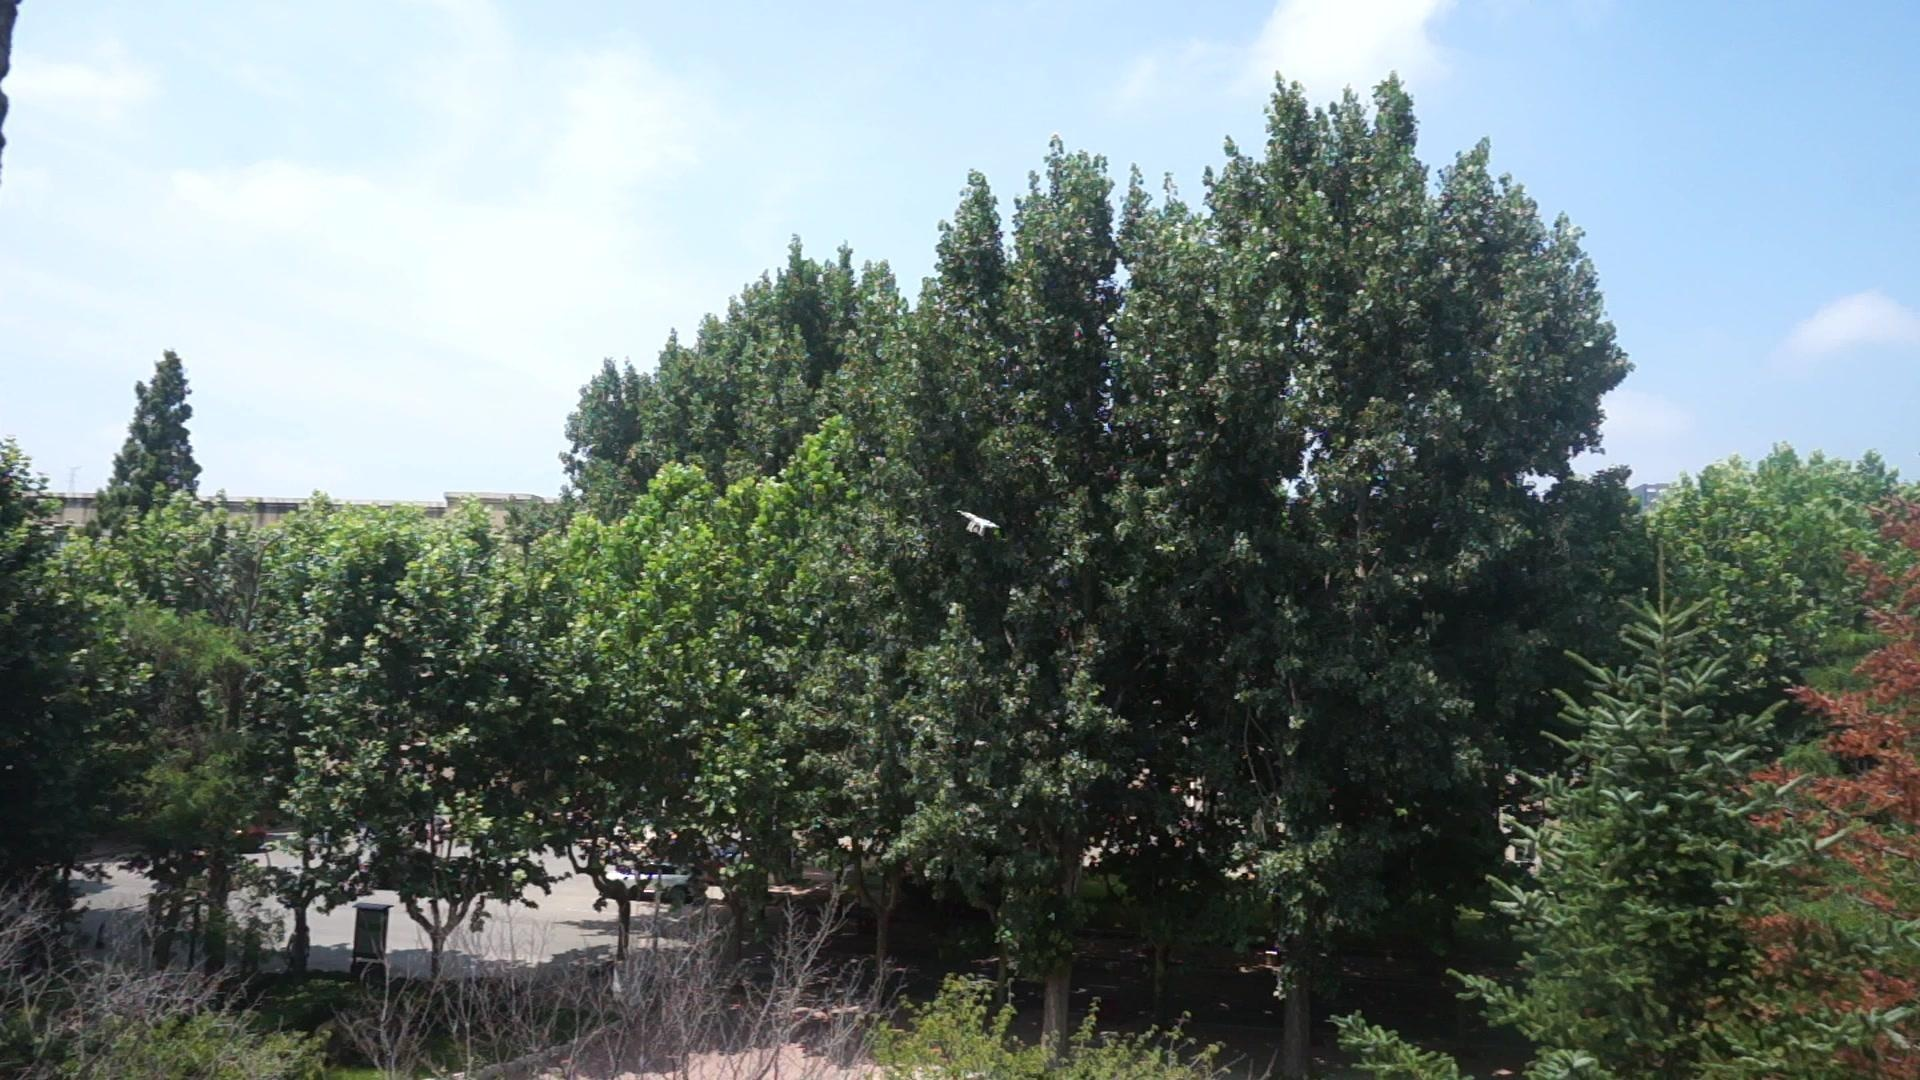UAV: (957, 512, 1002, 538)
